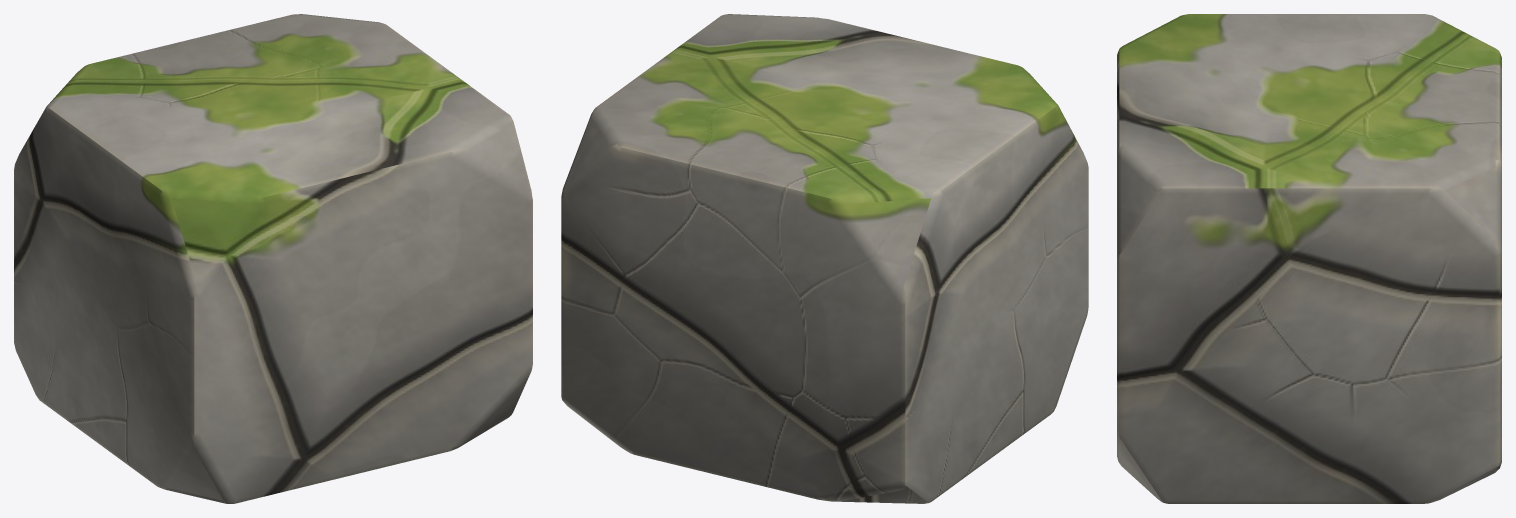
Rendered from rock_small_b.glb.
3 views of the same model, side by side, from view 1: azimuth 30°, elevation 25°; view 2: azimuth 150°, elevation 25°; view 3: azimuth 270°, elevation 25° (orthographic). The views are drawn at different scales.
Visible parts, largest first — view 1: Rock_small_b; view 2: Rock_small_b; view 3: Rock_small_b.
Boxes of the visible parts, box(x1,y1,x2,y2) form: Rock_small_b: box(14, 14, 532, 503); Rock_small_b: box(561, 14, 1088, 503); Rock_small_b: box(1117, 14, 1501, 503).
Bounding box in the file's own units: 0.65 × 0.55 × 0.6.
1 material, 1 textured.
